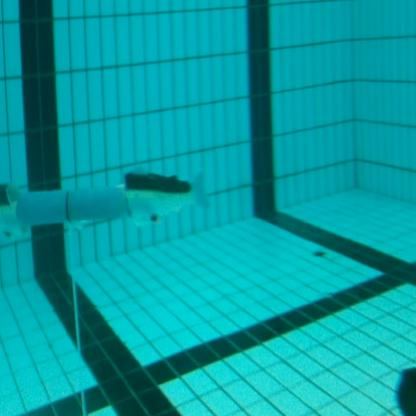tail: (122, 160, 211, 224)
